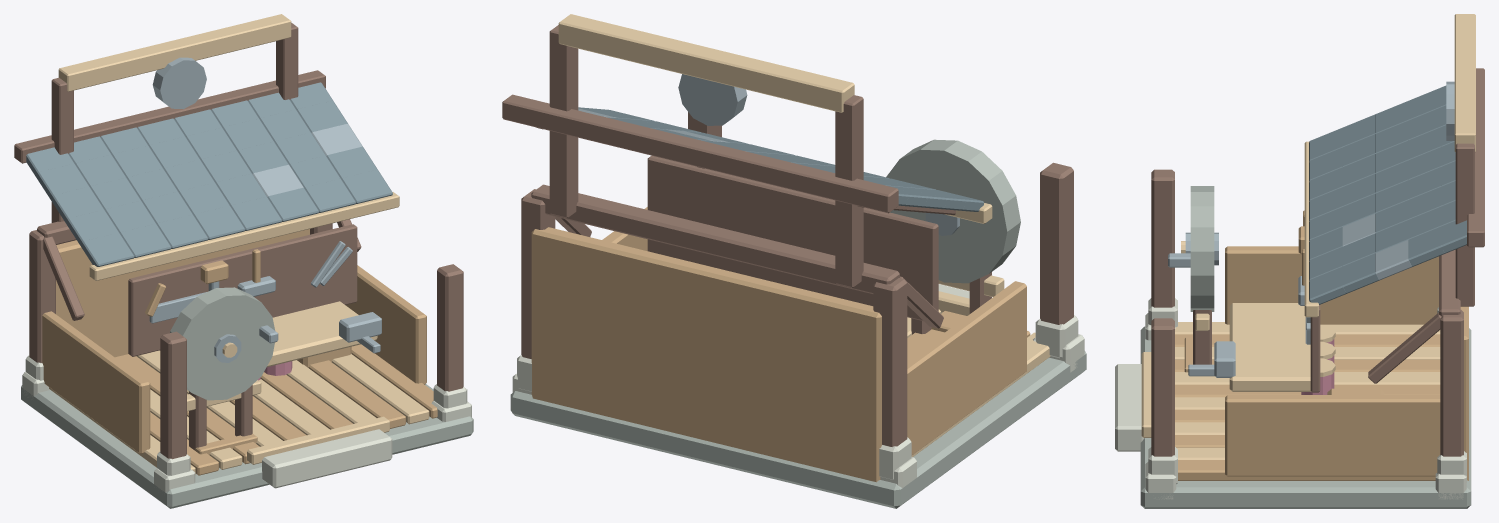
Rendered from workshop.fbx.
3 views of the same model, side by side, from view 1: azimuth 30°, elevation 25°; view 2: azimuth 150°, elevation 25°; view 3: azimuth 270°, elevation 25° (orthographic). The views are drawn at different scales.
Parts seen in each view (by area): view 1: workshop_mesh, Grindstone; view 2: workshop_mesh, Grindstone; view 3: workshop_mesh, Grindstone.
Part boxes in pixels (bbox=[...]): workshop_mesh: bbox=[14, 14, 473, 508]; Grindstone: bbox=[170, 287, 275, 400]; workshop_mesh: bbox=[502, 14, 1086, 508]; Grindstone: bbox=[886, 139, 1020, 283]; workshop_mesh: bbox=[1115, 14, 1484, 508]; Grindstone: bbox=[1185, 186, 1218, 311].
Bounding box in the file's own units: 3.28 × 3.29 × 3.11.
